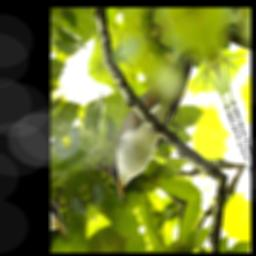Cuckoo: (84, 40, 228, 206)
